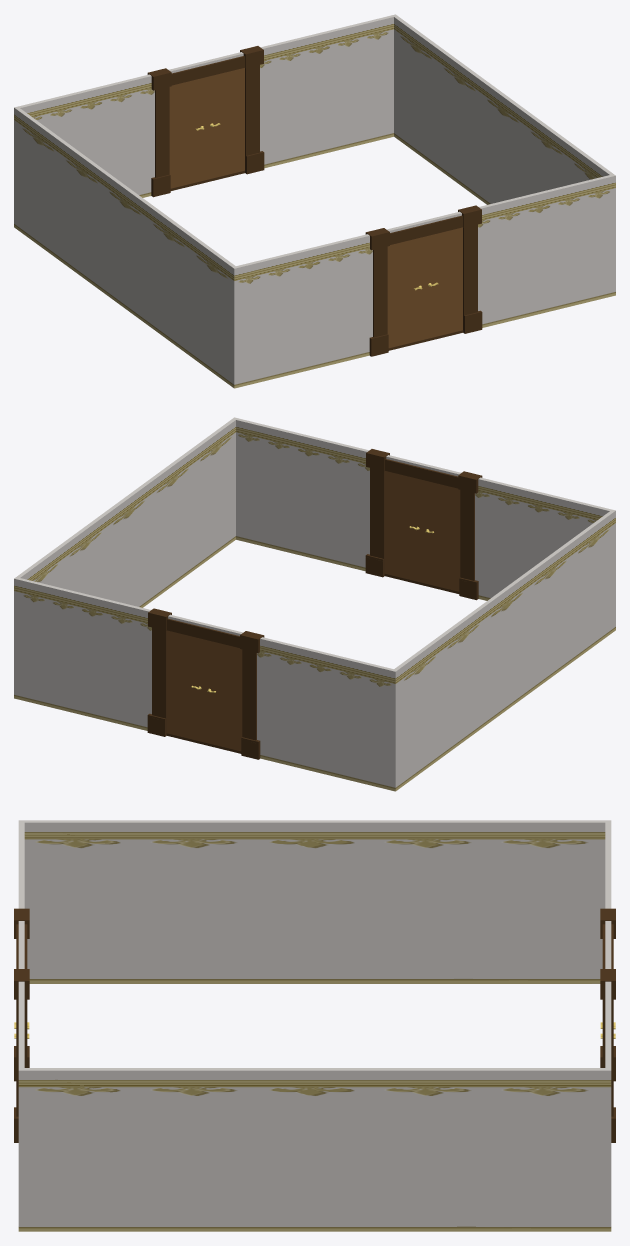
Rendered from Geo_Room5x5_2Doors_01.fbx.
3 views of the same model, one above another, from view 1: azimuth 30°, elevation 25°; view 2: azimuth 150°, elevation 25°; view 3: azimuth 270°, elevation 25° (orthographic). The views are drawn at different scales.
Visible parts, largest first — view 1: geo_wallTopx5_02 (×2), geo_wallTopx5_05, geo_wallTopx5_03, geo_door_L (×2), geo_door_R (×2), geo_wallCulledx5_02 (×2), geo_wallCulledx5_05, geo_doorFrameSide_05 (×2), geo_doorFrameSide_01 (×2), geo_doorFrameTop_01 (×2), geo_wallCulledx5_03; view 2: geo_wallTopx5_02 (×2), geo_wallTopx5_05, geo_wallTopx5_03, geo_door_L (×2), geo_door_R (×2), geo_wallCulledx5_02 (×2), geo_wallCulledx5_05, geo_doorFrameSide_05 (×2), geo_doorFrameSide_01 (×2), geo_doorFrameTop_01 (×2), geo_wallCulledx5_03; view 3: geo_wallTopx5_03, geo_wallTopx5_05, geo_wallCulledx5_03, geo_wallCulledx5_05, geo_wallTopx5_02 (×2), geo_doorFrameSide_05 (×2).
Part boxes in pixels (bbox=[...]): geo_wallTopx5_02 (×2): bbox=[14, 15, 615, 371]; geo_wallTopx5_05: bbox=[14, 107, 237, 372]; geo_wallTopx5_03: bbox=[392, 14, 614, 200]; geo_door_L (×2): bbox=[206, 68, 424, 348]; geo_door_R (×2): bbox=[169, 77, 462, 339]; geo_wallCulledx5_02 (×2): bbox=[14, 121, 615, 388]; geo_wallCulledx5_05: bbox=[16, 213, 234, 387]; geo_doorFrameSide_05 (×2): bbox=[245, 65, 477, 315]; geo_doorFrameSide_01 (×2): bbox=[155, 87, 387, 337]; geo_doorFrameTop_01 (×2): bbox=[171, 56, 462, 244]; geo_wallCulledx5_03: bbox=[394, 121, 502, 204]; geo_wallTopx5_02 (×2): bbox=[17, 417, 615, 775]; geo_wallTopx5_05: bbox=[392, 509, 615, 773]; geo_wallTopx5_03: bbox=[14, 417, 237, 683]; geo_door_L (×2): bbox=[167, 480, 460, 742]; geo_door_R (×2): bbox=[205, 471, 422, 751]; geo_wallCulledx5_02 (×2): bbox=[17, 524, 502, 791]; geo_wallCulledx5_05: bbox=[398, 614, 615, 789]; geo_doorFrameSide_05 (×2): bbox=[152, 468, 384, 718]; geo_doorFrameSide_01 (×2): bbox=[242, 490, 474, 740]; geo_doorFrameTop_01 (×2): bbox=[167, 459, 458, 647]; geo_wallCulledx5_03: bbox=[14, 524, 235, 699]; geo_wallTopx5_03: bbox=[18, 1068, 611, 1210]; geo_wallTopx5_05: bbox=[19, 820, 609, 962]; geo_wallCulledx5_03: bbox=[18, 1210, 611, 1231]; geo_wallCulledx5_05: bbox=[27, 962, 602, 983]; geo_wallTopx5_02 (×2): bbox=[18, 820, 611, 1070]; geo_doorFrameSide_05 (×2): bbox=[16, 999, 613, 1116].
Size of the model in its own units: 500 by 151 by 508.
Materials: 5 (1 with a texture image).
